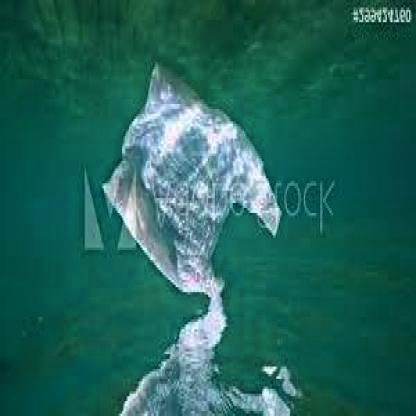pbag: (100, 60, 283, 300)
